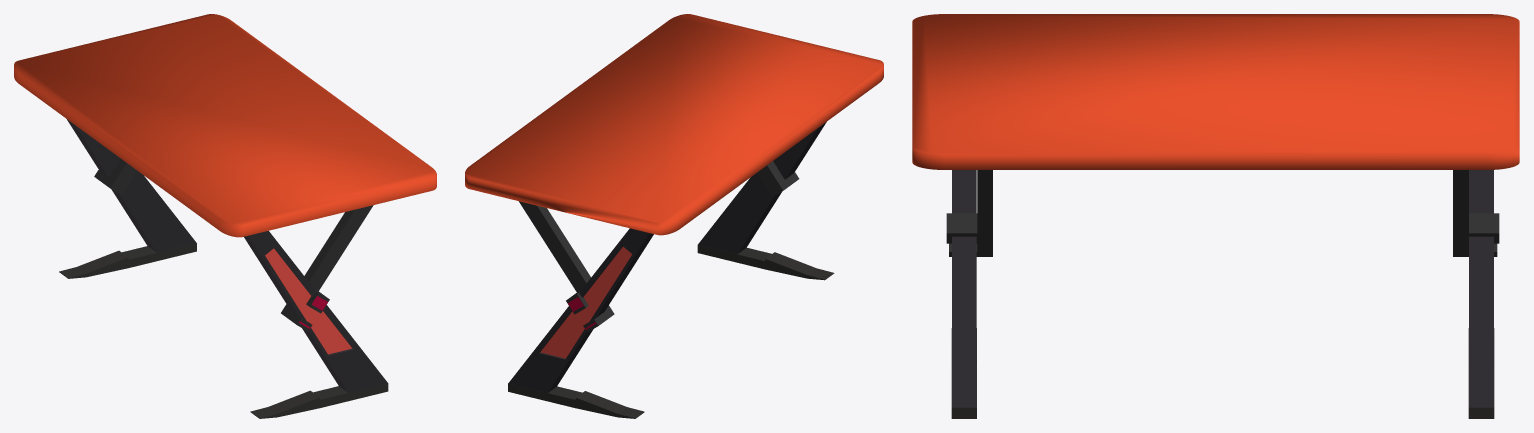
File: table.fbx
3 views of the same model, side by side, from view 1: azimuth 30°, elevation 25°; view 2: azimuth 150°, elevation 25°; view 3: azimuth 270°, elevation 25° (orthographic). The views are drawn at different scales.
Parts seen in each view (by area): view 1: table.001_Cube.011, leg_1_backup.001_Cube.022, leg_1_backup_Cube.014, Cube.004_Cube.021, Cube.001_Cube.018, Cube.008_Cube.010, Cube.005_Cube.015; view 2: table.001_Cube.011, leg_1_backup_Cube.014, leg_1_backup.001_Cube.022, Cube.005_Cube.015, Cube.001_Cube.018, Cube.008_Cube.010, Cube.004_Cube.021; view 3: table.001_Cube.011, leg_1_backup_Cube.014, leg_1_backup.001_Cube.022, Cube.004_Cube.021, Cube.005_Cube.015.
Boxes of the visible parts, x1,y1,x2,y2 form: table.001_Cube.011: (14,14,436,237); leg_1_backup.001_Cube.022: (244,231,387,392); leg_1_backup_Cube.014: (67,119,196,252); Cube.004_Cube.021: (281,205,373,331); Cube.001_Cube.018: (250,383,388,418); Cube.008_Cube.010: (59,243,196,278); Cube.005_Cube.015: (94,159,136,194); table.001_Cube.011: (465,14,883,235); leg_1_backup_Cube.014: (508,228,653,392); leg_1_backup.001_Cube.022: (698,122,826,254); Cube.005_Cube.015: (519,201,614,332); Cube.001_Cube.018: (697,245,834,280); Cube.008_Cube.010: (508,383,644,418); Cube.004_Cube.021: (757,161,799,196); table.001_Cube.011: (912,14,1519,169); leg_1_backup_Cube.014: (1469,170,1493,407); leg_1_backup.001_Cube.022: (952,170,976,407); Cube.004_Cube.021: (946,170,992,256); Cube.005_Cube.015: (1453,170,1499,256).
Bounding box in the file's own units: 311 × 303 × 571.
